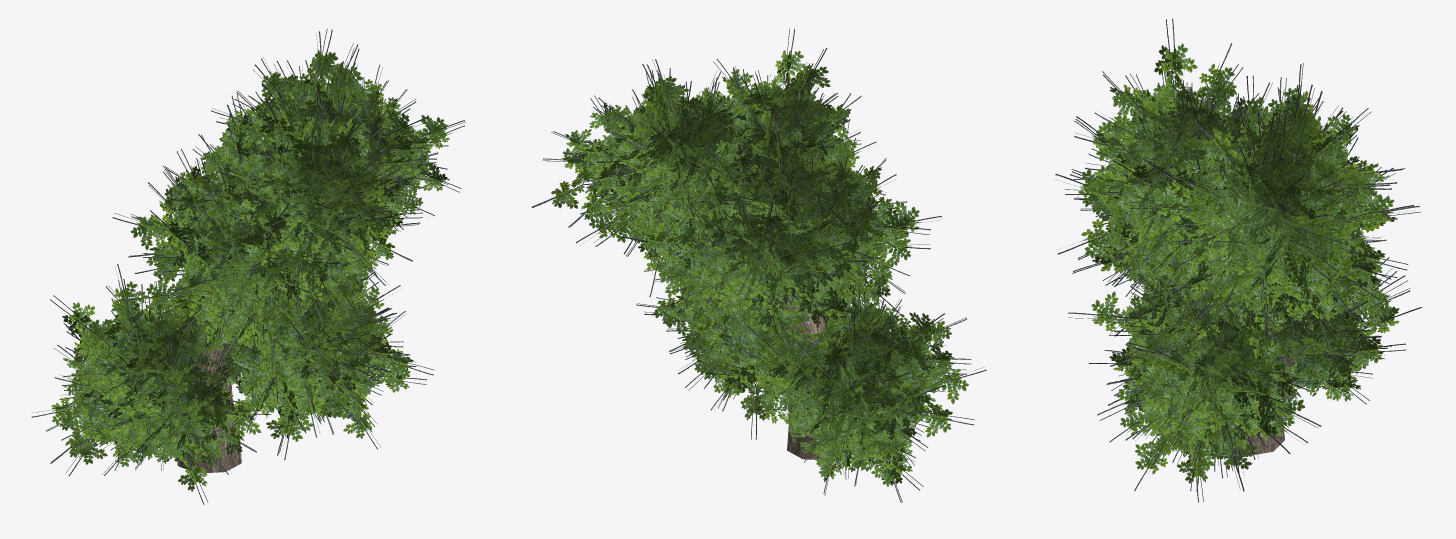
File: eztree-boxelder-understory-a.glb
3 renders of one model, left to right at view 1: azimuth 30°, elevation 25°; view 2: azimuth 150°, elevation 25°; view 3: azimuth 270°, elevation 25°, orthographic. The views are drawn at different scales.
Visible parts, largest first — view 1: eztree-boxelder-understory-a; view 2: eztree-boxelder-understory-a; view 3: eztree-boxelder-understory-a.
Part boxes in pixels (x1,y1,x2,y2): eztree-boxelder-understory-a: (31,28,465,504); eztree-boxelder-understory-a: (531,28,986,502); eztree-boxelder-understory-a: (1055,18,1421,502).
Size of the model in its own units: 22.67 by 20.82 by 15.51.
Materials: 2 (2 with a texture image).
